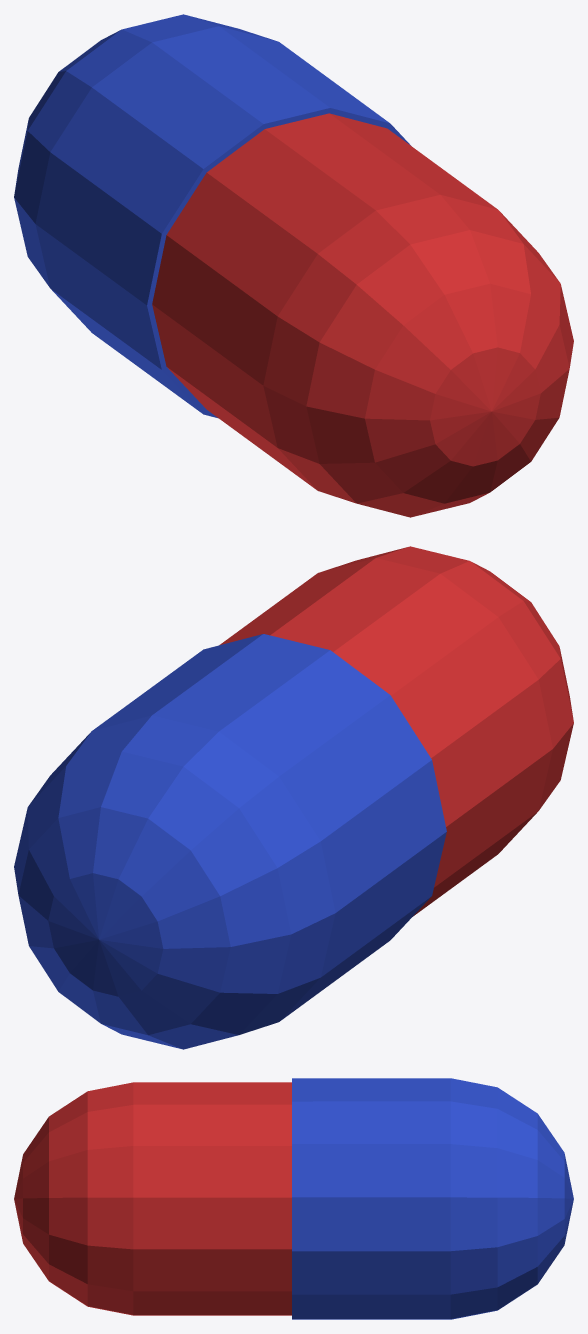
The model's file is kapsel_bewinged.fbx.
3 views of the same model, one above another, from view 1: azimuth 30°, elevation 25°; view 2: azimuth 150°, elevation 25°; view 3: azimuth 270°, elevation 25° (orthographic). The views are drawn at different scales.
Visible parts, largest first — view 1: kapsel; view 2: kapsel; view 3: kapsel.
Part boxes in pixels (x1,y1,x2,y2): kapsel: (14,14,573,517); kapsel: (14,546,573,1049); kapsel: (14,1078,573,1319).
Bounding box in the file's own units: 0.3998 × 0.3897 × 0.9059.
